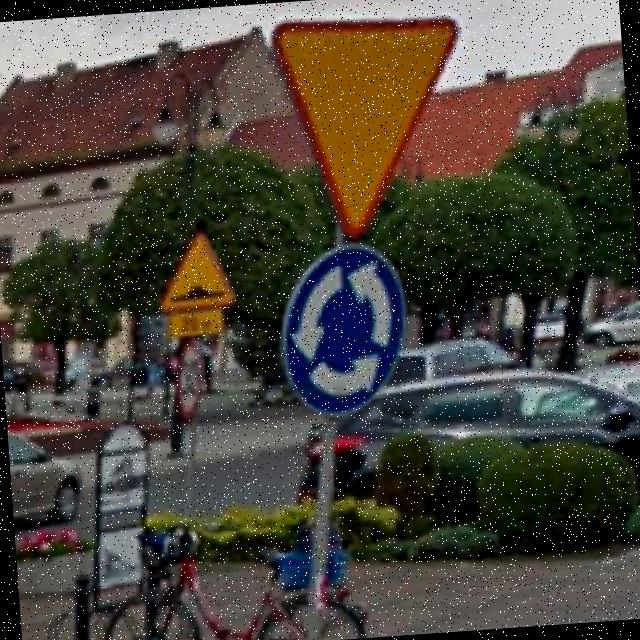Ustap pierwszenstwa: (266, 6, 474, 243)
